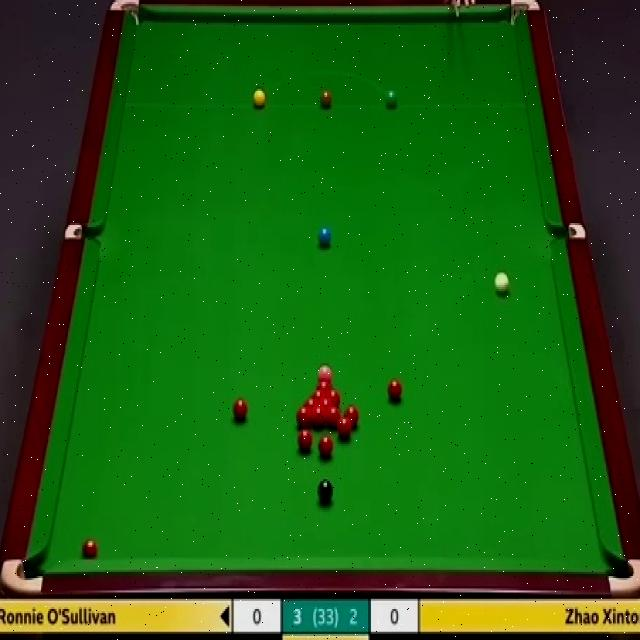black-ball: (318, 479, 334, 505)
blue-ball: (318, 227, 332, 247)
brown-ball: (319, 90, 333, 109)
green-ball: (385, 88, 398, 110)
pink-ball: (317, 363, 332, 377)
red-ball: (231, 399, 249, 424), (81, 535, 99, 558), (297, 428, 314, 452), (295, 405, 311, 428), (318, 435, 333, 459), (388, 379, 402, 404), (326, 406, 341, 429), (344, 405, 358, 429), (337, 418, 351, 440), (311, 405, 325, 427), (327, 388, 341, 404), (314, 377, 332, 388), (310, 388, 326, 398), (303, 398, 318, 407), (318, 398, 334, 406)
white-ball: (494, 270, 511, 298)
yellow-ball: (252, 89, 265, 109)
